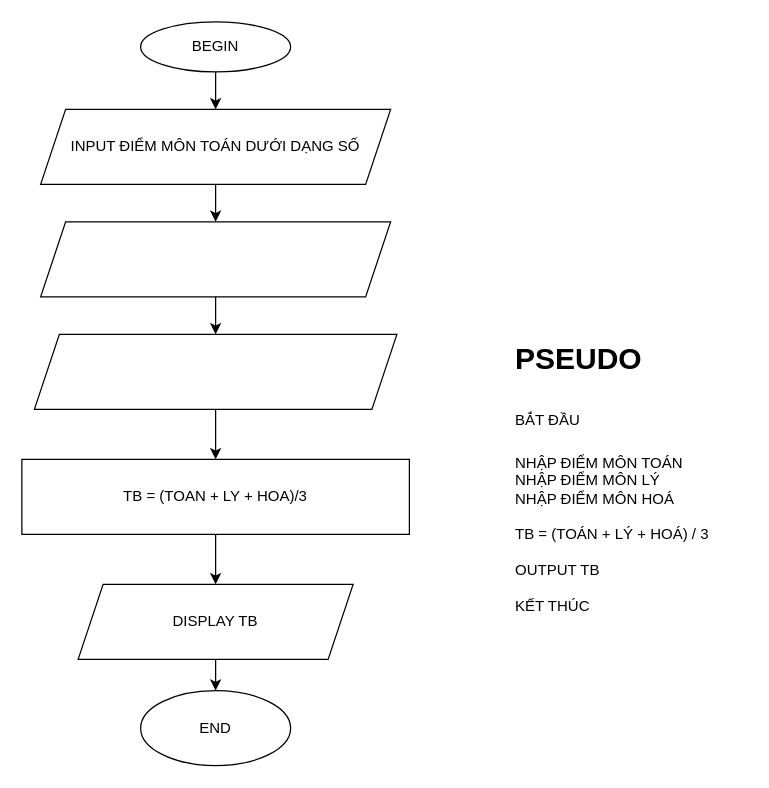
This 769x788 diagram has some shape labels left out. The box of each missing label's shape, as (x1, y1, x2, y2) in pixels:
INPUT ĐIỂM MÔN HOÁ DƯỚI DẠNG SỐ: (33, 333, 397, 409)
INPUT ĐIỂM MÔN LÝ DƯỚI DẠNG SỐ: (39, 221, 391, 297)
